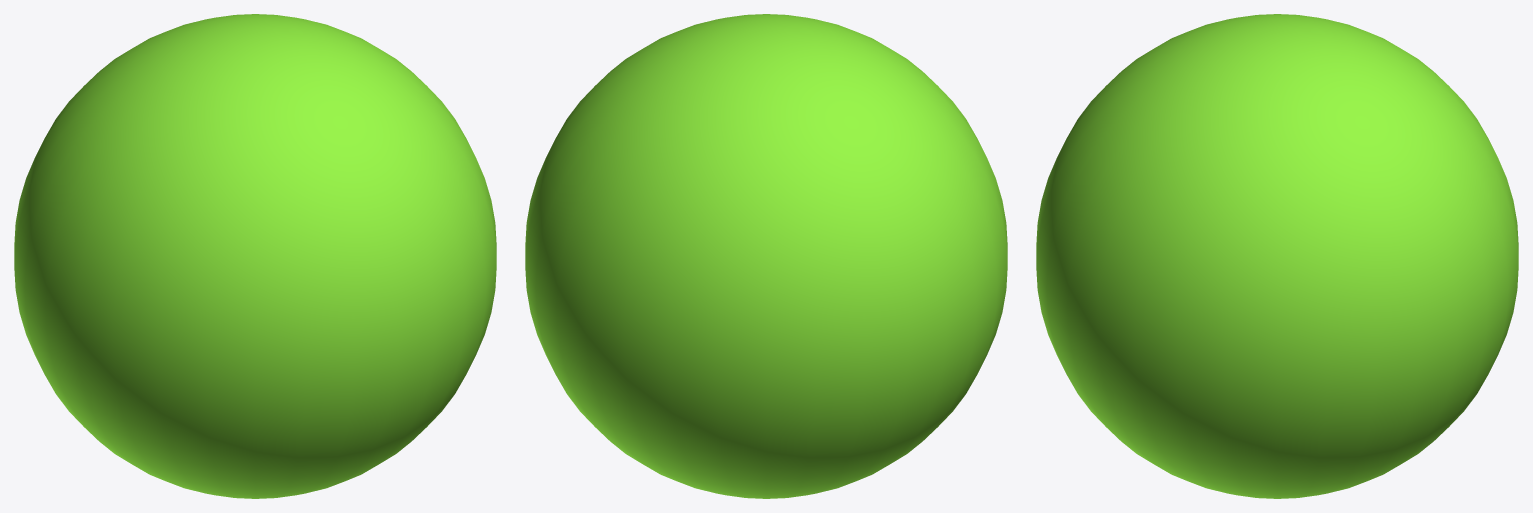
The picture shows the model from 3 angles, left to right: view 1: azimuth 30°, elevation 25°; view 2: azimuth 150°, elevation 25°; view 3: azimuth 270°, elevation 25°; orthographic projection.
Visible parts, largest first — view 1: Sphere; view 2: Sphere; view 3: Sphere.
Part boxes in pixels (left/top/right/bottom): Sphere: left=14, top=14, right=496, bottom=498; Sphere: left=525, top=14, right=1007, bottom=498; Sphere: left=1036, top=14, right=1518, bottom=498.
Bounding box in the file's own units: 2 × 2 × 1.99.
